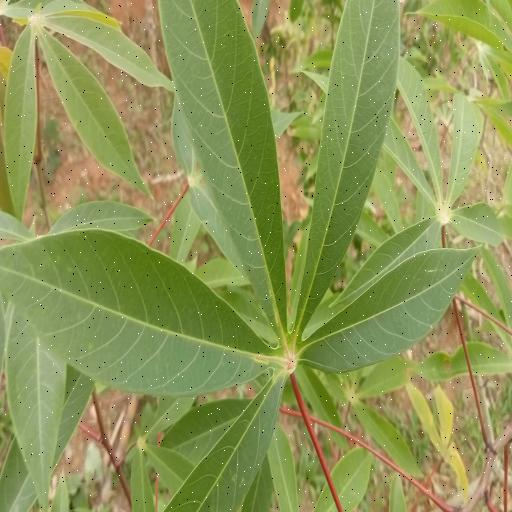Cassava_Healthy: (1, 0, 478, 512)
